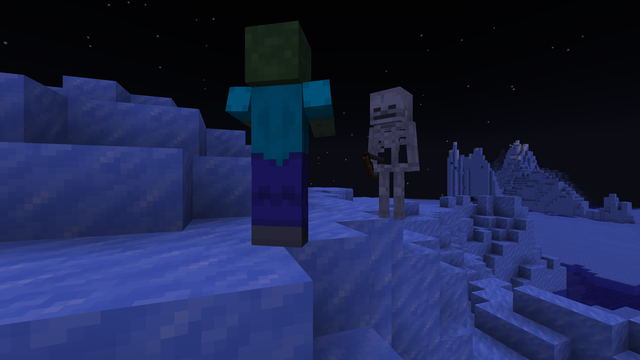squelettes: (365, 86, 418, 222)
zombies: (246, 19, 319, 253)
